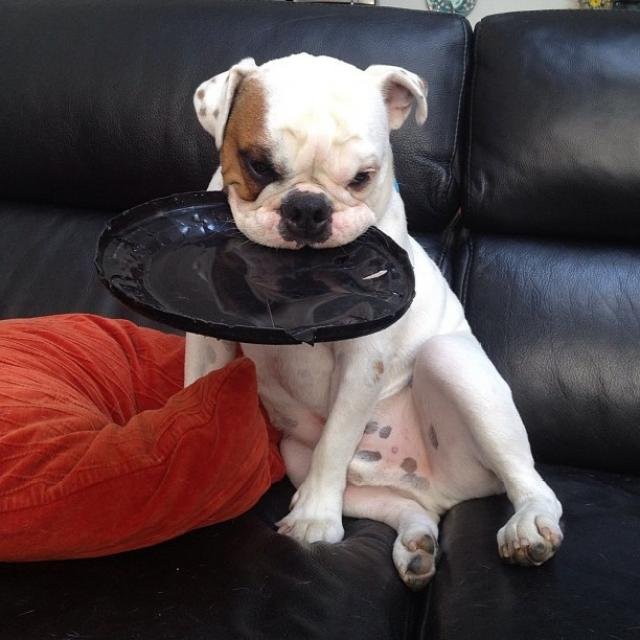dog: (176, 51, 564, 568)
